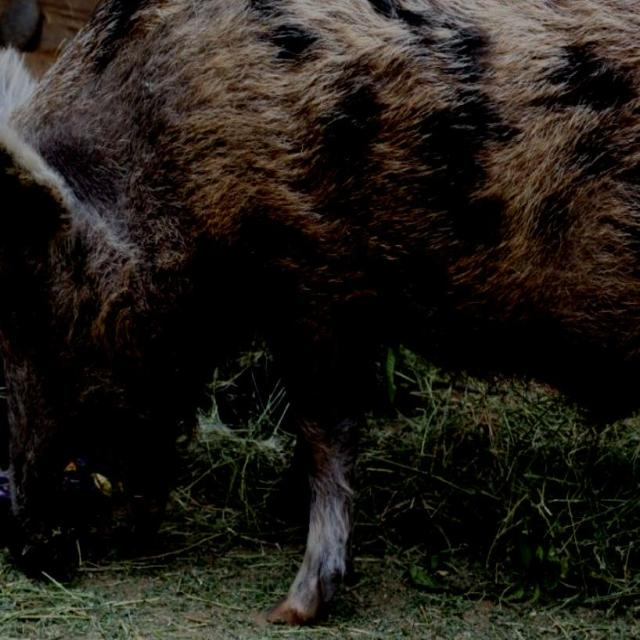pig: (0, 3, 640, 623)
